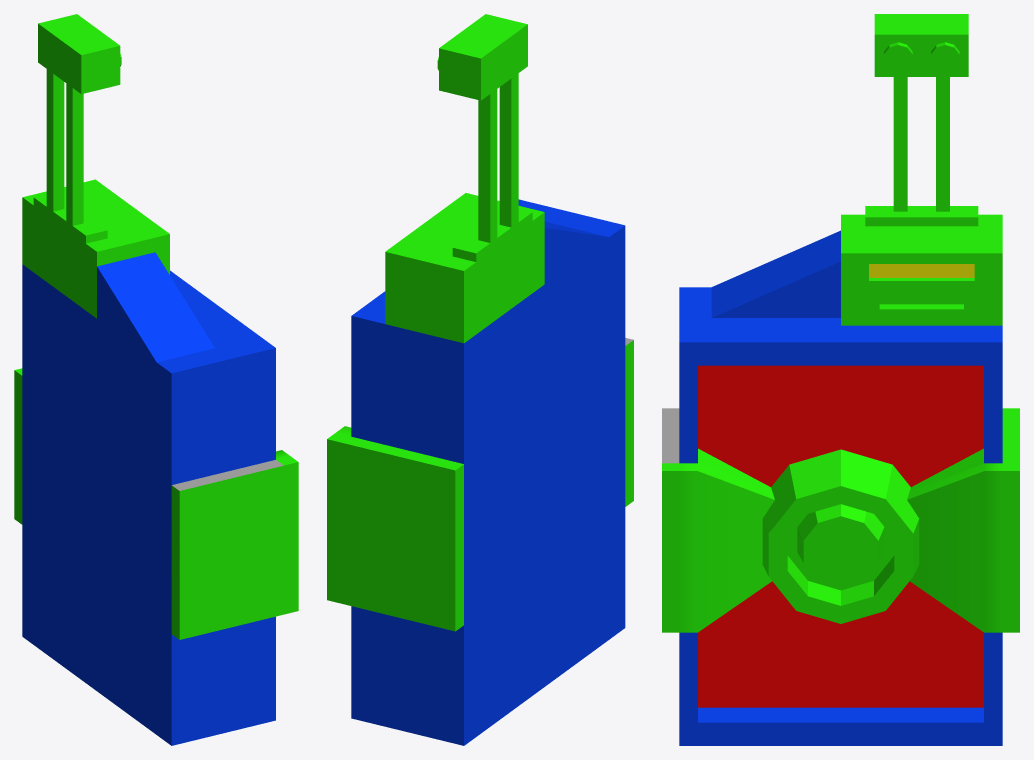
File: skåp.fbx
The picture shows the model from 3 angles, left to right: view 1: azimuth 30°, elevation 25°; view 2: azimuth 150°, elevation 25°; view 3: azimuth 270°, elevation 25°; orthographic projection. The views are drawn at different scales.
Parts seen in each view (by area): view 1: pCylinder5; view 2: pCylinder5; view 3: pCylinder5.
Part boxes in pixels (<box>): pCylinder5: <box>14,14,298,745</box>; pCylinder5: <box>327,14,633,745</box>; pCylinder5: <box>662,14,1019,745</box>.
Size of the model in its own units: 1.2 by 5.72 by 2.74.
